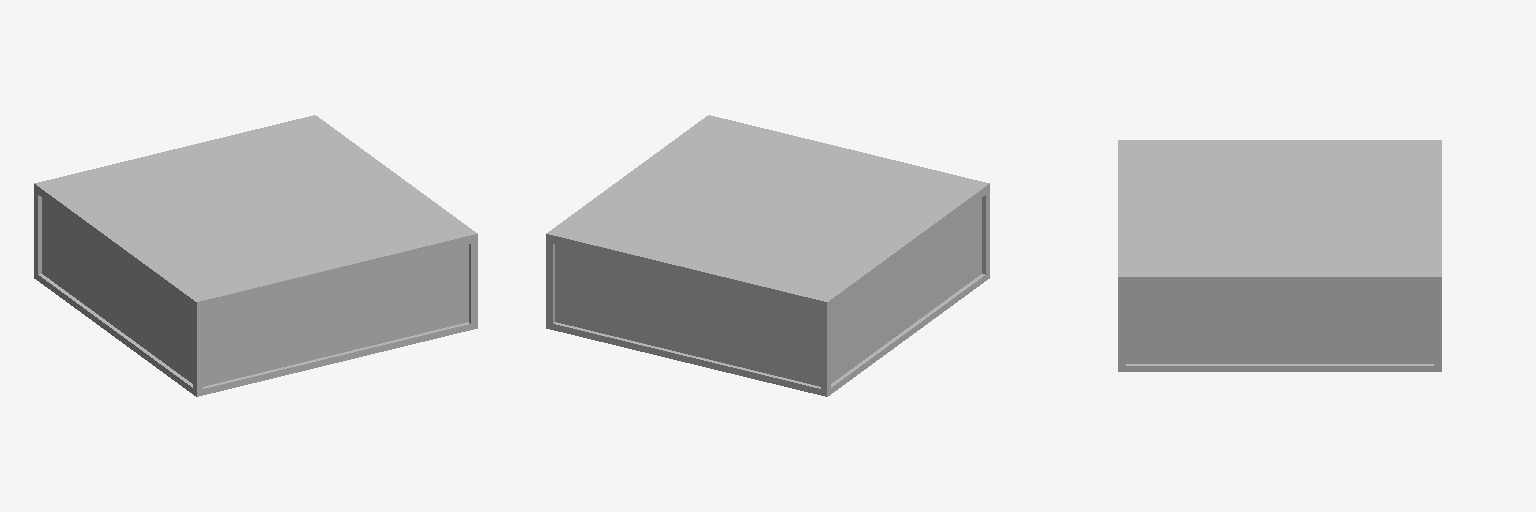
Rendered from Tower Segments - Top.obj.
3 renders of one model, left to right at view 1: azimuth 30°, elevation 25°; view 2: azimuth 150°, elevation 25°; view 3: azimuth 270°, elevation 25°, orthographic.
Visible parts, largest first — view 1: Cube.001_Cube.002; view 2: Cube.001_Cube.002; view 3: Cube.001_Cube.002.
Part boxes in pixels (x1,y1,x2,y2): Cube.001_Cube.002: (34,115,477,396); Cube.001_Cube.002: (546,115,989,396); Cube.001_Cube.002: (1118,140,1441,371).
Size of the model in its own units: 1.8 by 0.5796 by 1.8.